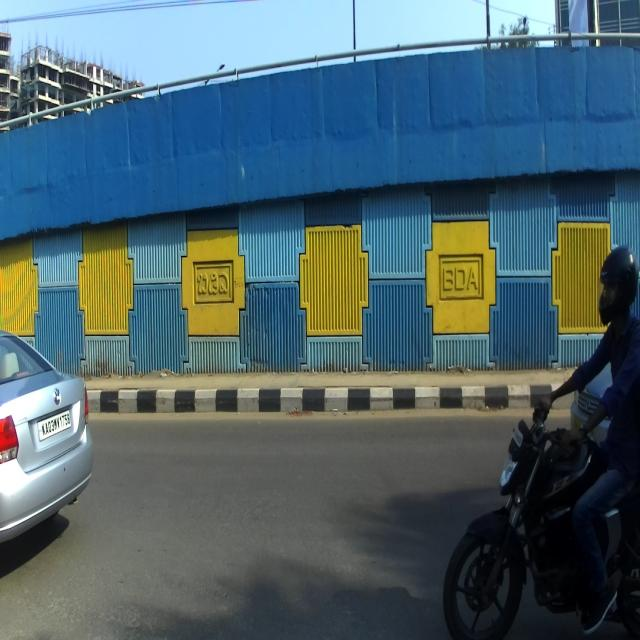car: (0, 326, 92, 546)
motorcycle: (442, 400, 640, 640)
